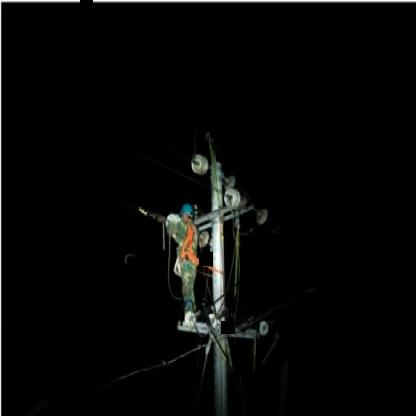helmet: (178, 200, 196, 228)
